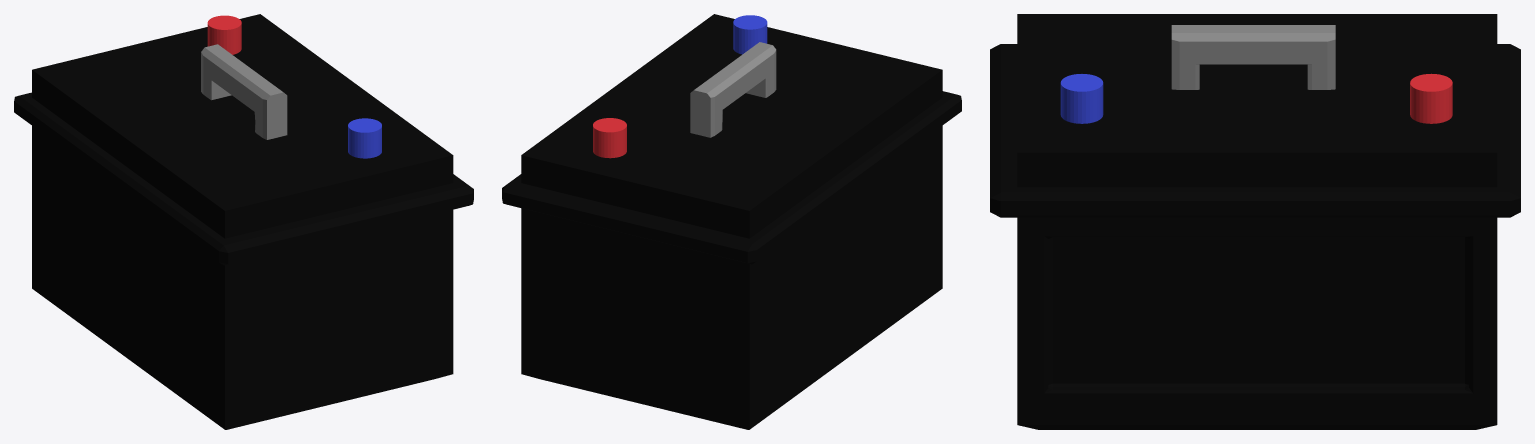
Rendered from LowPolyCarBattery.fbx.
The picture shows the model from 3 angles, left to right: view 1: azimuth 30°, elevation 25°; view 2: azimuth 150°, elevation 25°; view 3: azimuth 270°, elevation 25°; orthographic projection. The views are drawn at different scales.
Parts seen in each view (by area): view 1: Cube, Cube.001, Cylinder, Cylinder.001; view 2: Cube, Cube.001, Cylinder.001, Cylinder; view 3: Cube, Cube.001, Cylinder, Cylinder.001.
Boxes of the visible parts, x1,y1,x2,y2 form: Cube: [14, 14, 473, 429]; Cube.001: [201, 44, 287, 139]; Cylinder: [348, 118, 381, 158]; Cylinder.001: [207, 15, 241, 54]; Cube: [502, 14, 961, 429]; Cube.001: [690, 42, 776, 137]; Cylinder.001: [593, 118, 626, 158]; Cylinder: [733, 15, 767, 54]; Cube: [990, 14, 1520, 429]; Cube.001: [1171, 25, 1335, 89]; Cylinder: [1060, 74, 1103, 123]; Cylinder.001: [1410, 73, 1452, 123].
Size of the model in its own units: 112 by 114 by 163.
